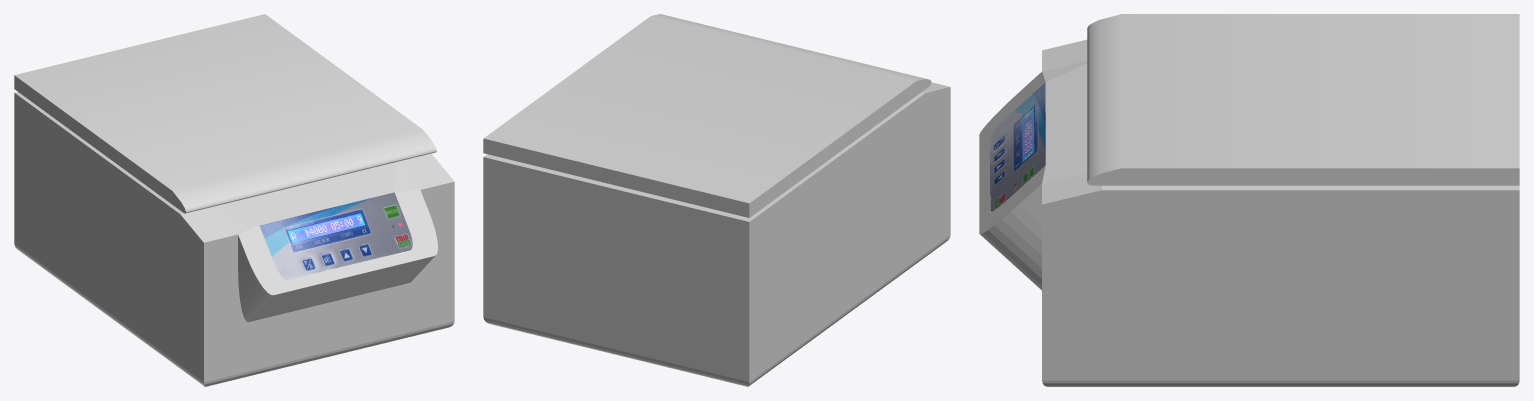
Rendered from BLC01a.fbx.
3 renders of one model, left to right at view 1: azimuth 30°, elevation 25°; view 2: azimuth 150°, elevation 25°; view 3: azimuth 270°, elevation 25°, orthographic. The views are drawn at different scales.
Visible parts, largest first — view 1: BLC01a; view 2: BLC01a; view 3: BLC01a.
Boxes of the visible parts, x1,y1,x2,y2 form: BLC01a: (14,14,454,386); BLC01a: (483,14,950,386); BLC01a: (979,14,1519,386).
Size of the model in its own units: 27.5 by 18.52 by 40.73.
2 materials, 1 textured.
